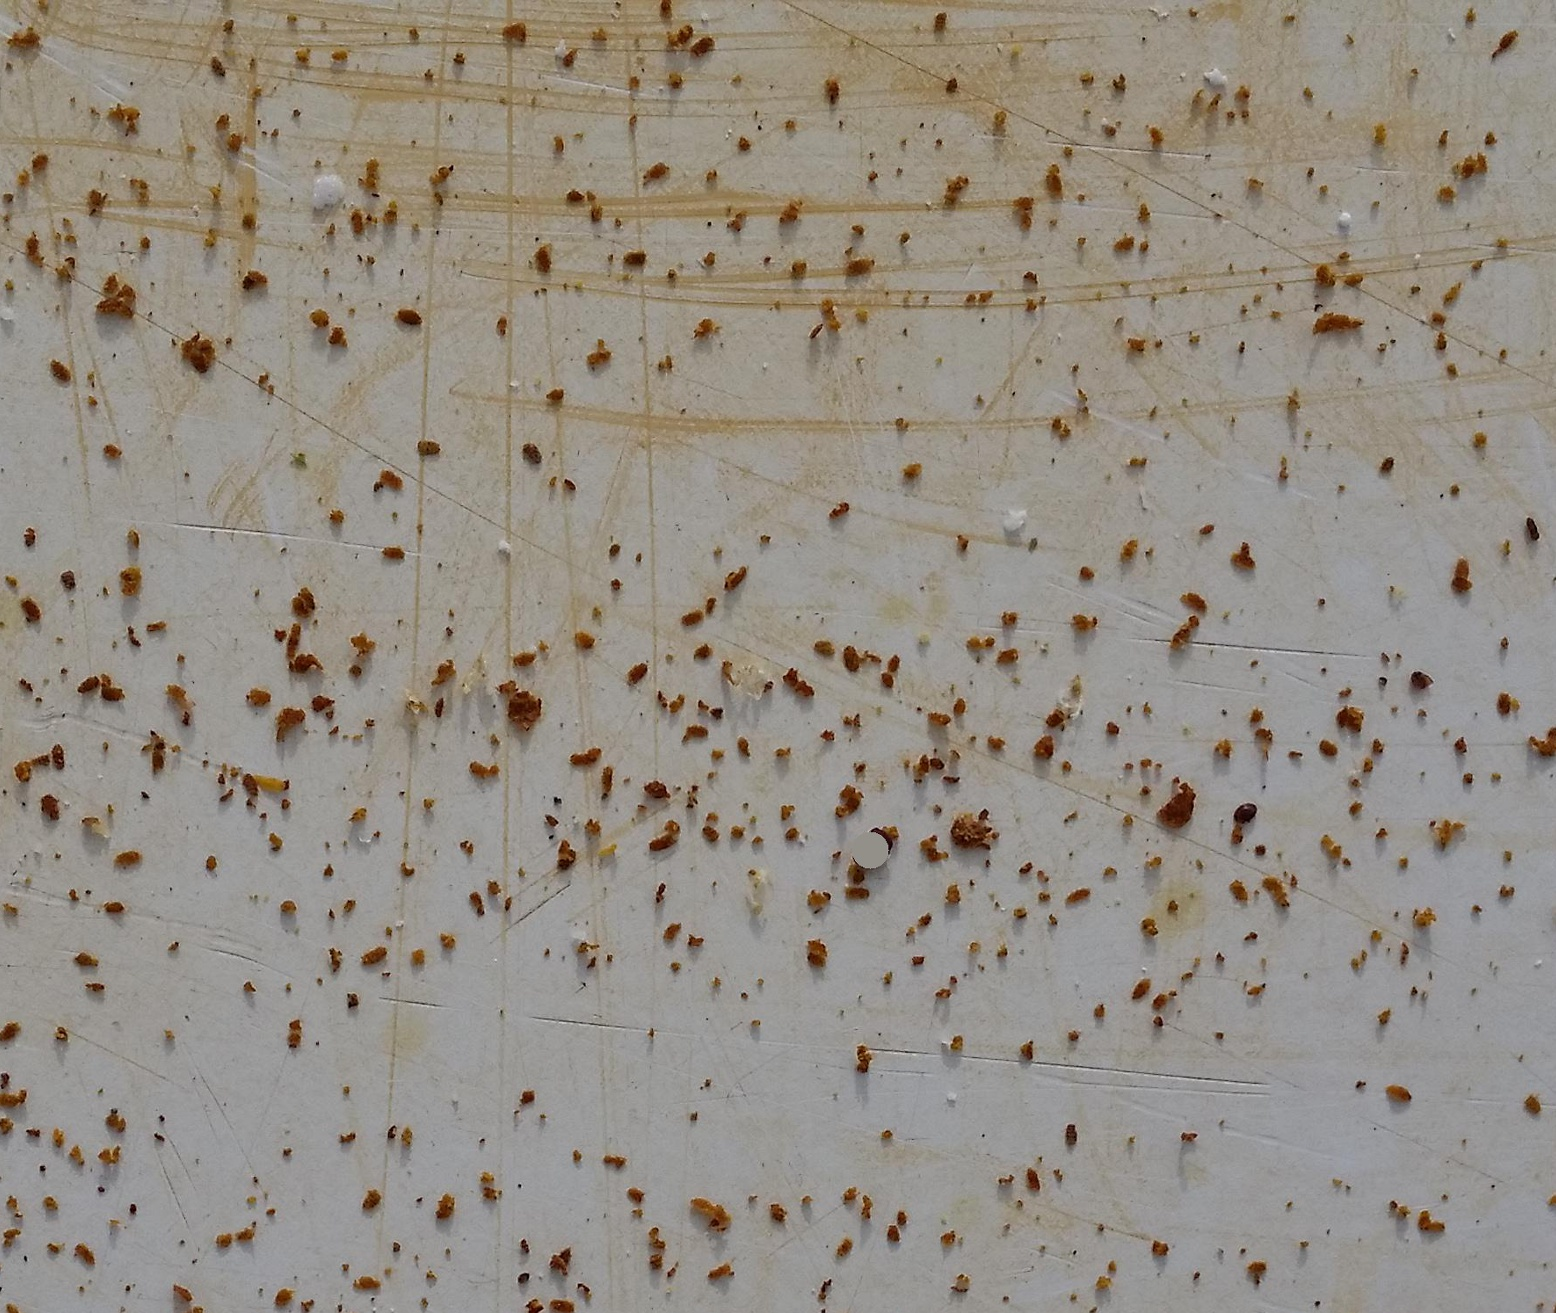Varroa: (1224, 795, 1257, 828)
